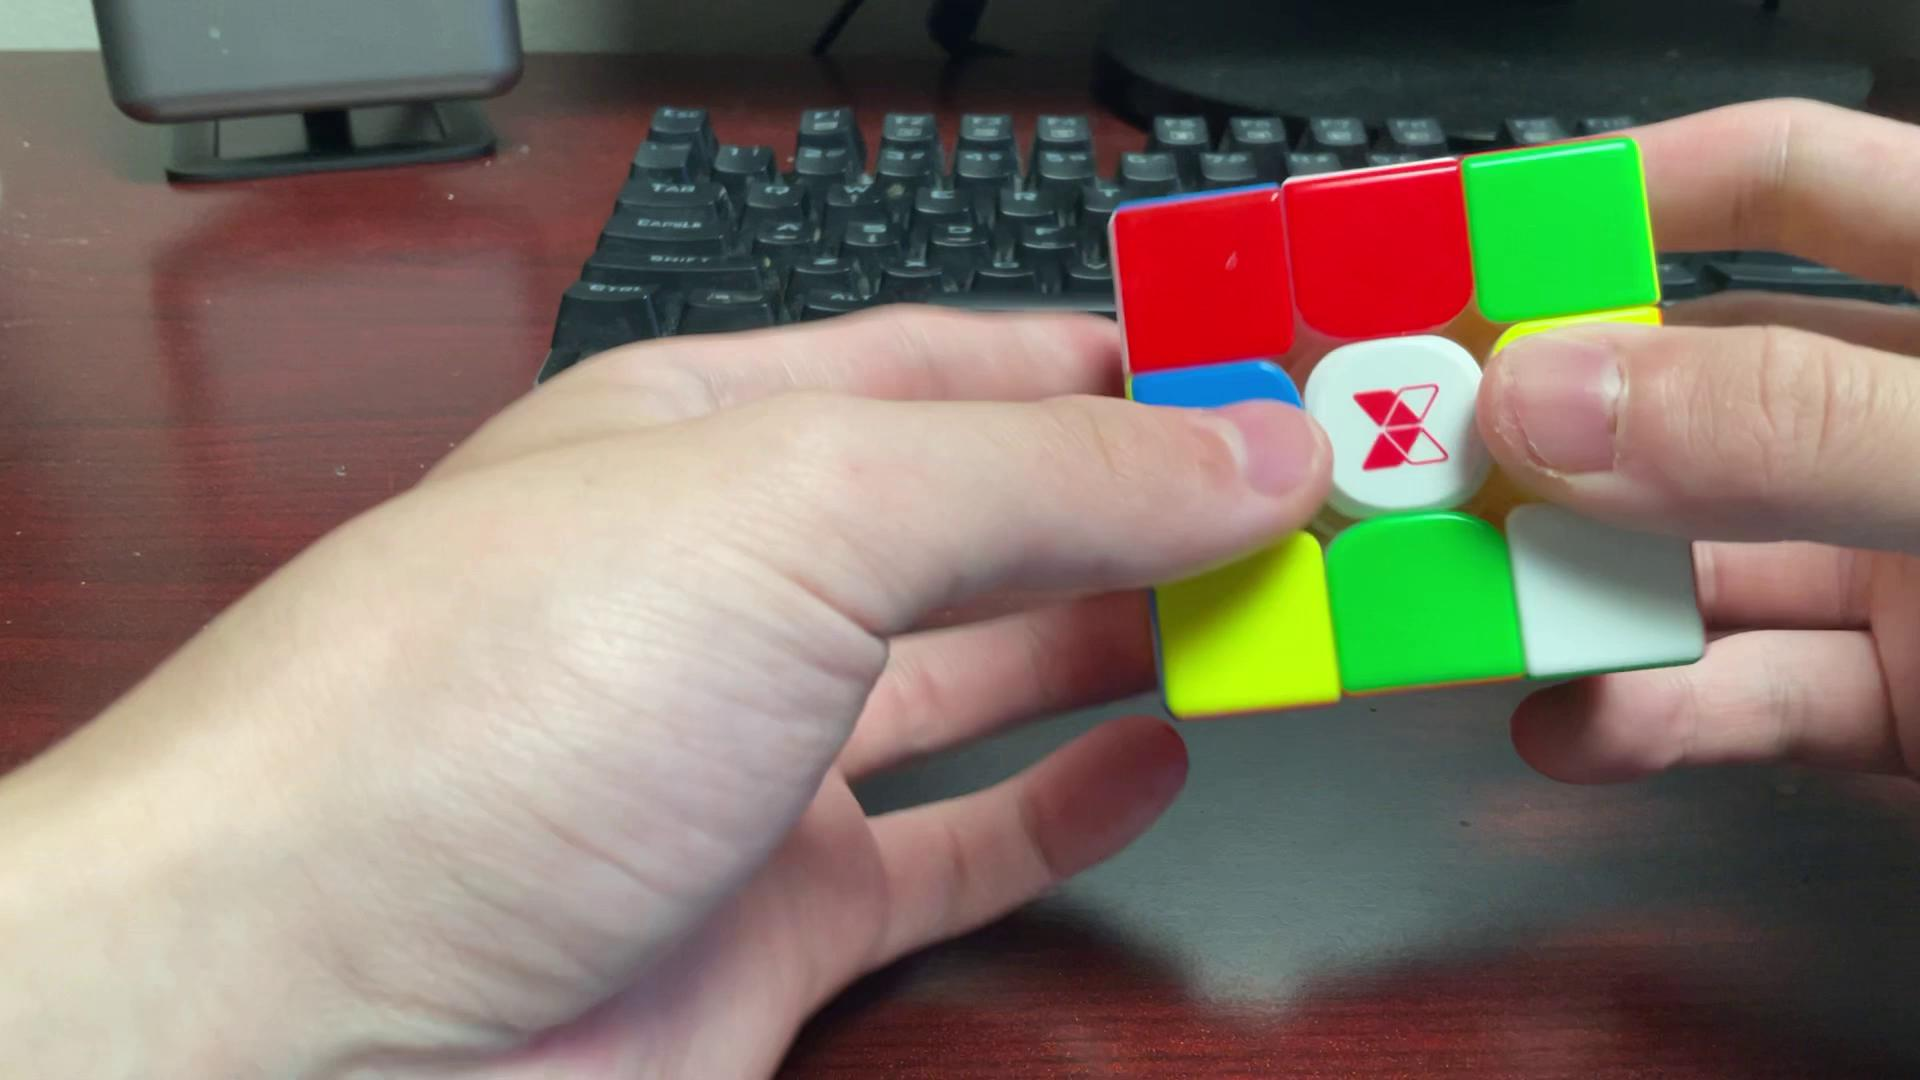Rubiks-Cube: (1105, 123, 1721, 724)
